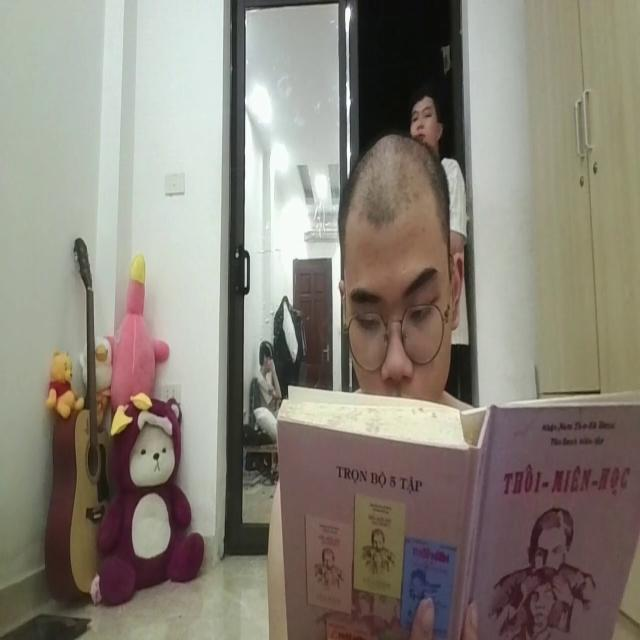book: (268, 374, 637, 640)
extra_person: (402, 88, 474, 363), (257, 317, 287, 442)
student: (337, 136, 463, 408)
